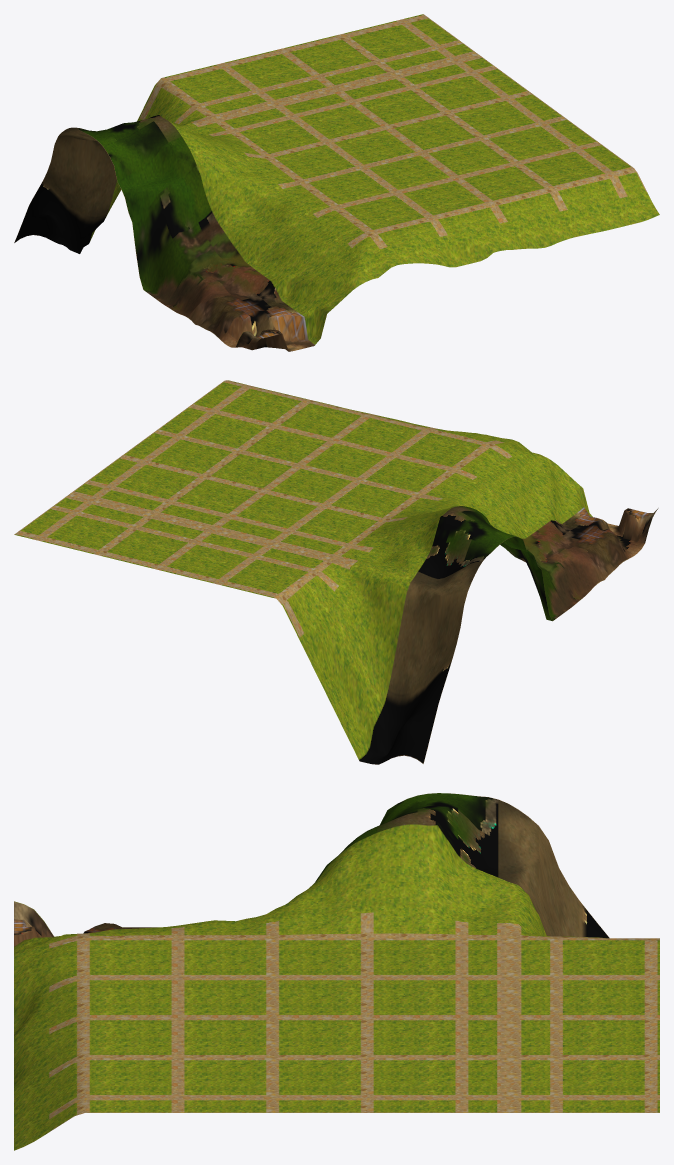
The model's file is terrain.glb.
The picture shows the model from 3 angles, top to bottom: view 1: azimuth 30°, elevation 25°; view 2: azimuth 150°, elevation 25°; view 3: azimuth 270°, elevation 25°; orthographic projection. The views are drawn at different scales.
Parts seen in each view (by area): view 1: terrain_0_4; view 2: terrain_0_4; view 3: terrain_0_4.
Part boxes in pixels (left/top/right/bottom): terrain_0_4: left=14, top=14, right=659, bottom=351; terrain_0_4: left=14, top=380, right=658, bottom=764; terrain_0_4: left=14, top=793, right=659, bottom=1150.
Size of the model in its own units: 512 by 225 by 512.
Materials: 1 (1 with a texture image).
